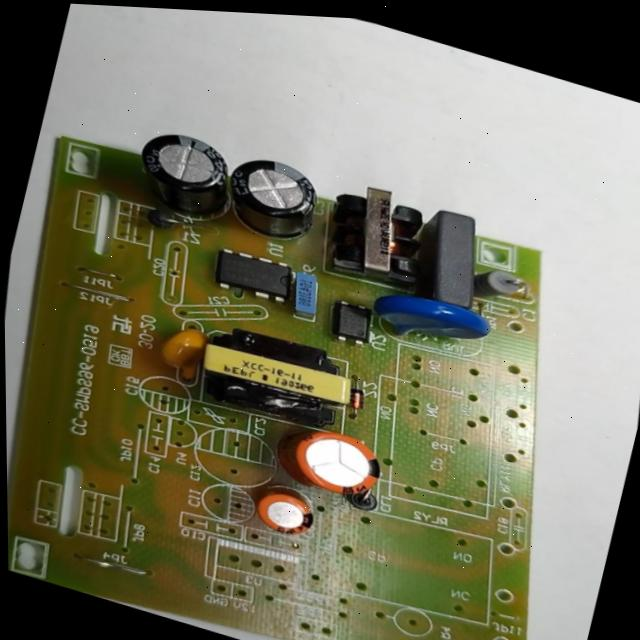Cap1: (266, 414, 394, 513)
Cap2: (249, 483, 323, 545)
Cap3: (213, 144, 333, 256)
Cap4: (119, 116, 241, 235)
MOSFET: (206, 239, 301, 311)
Mov: (363, 278, 503, 368)
Resistor: (469, 260, 529, 311)
Transformer: (183, 312, 358, 440), (314, 169, 443, 293)
